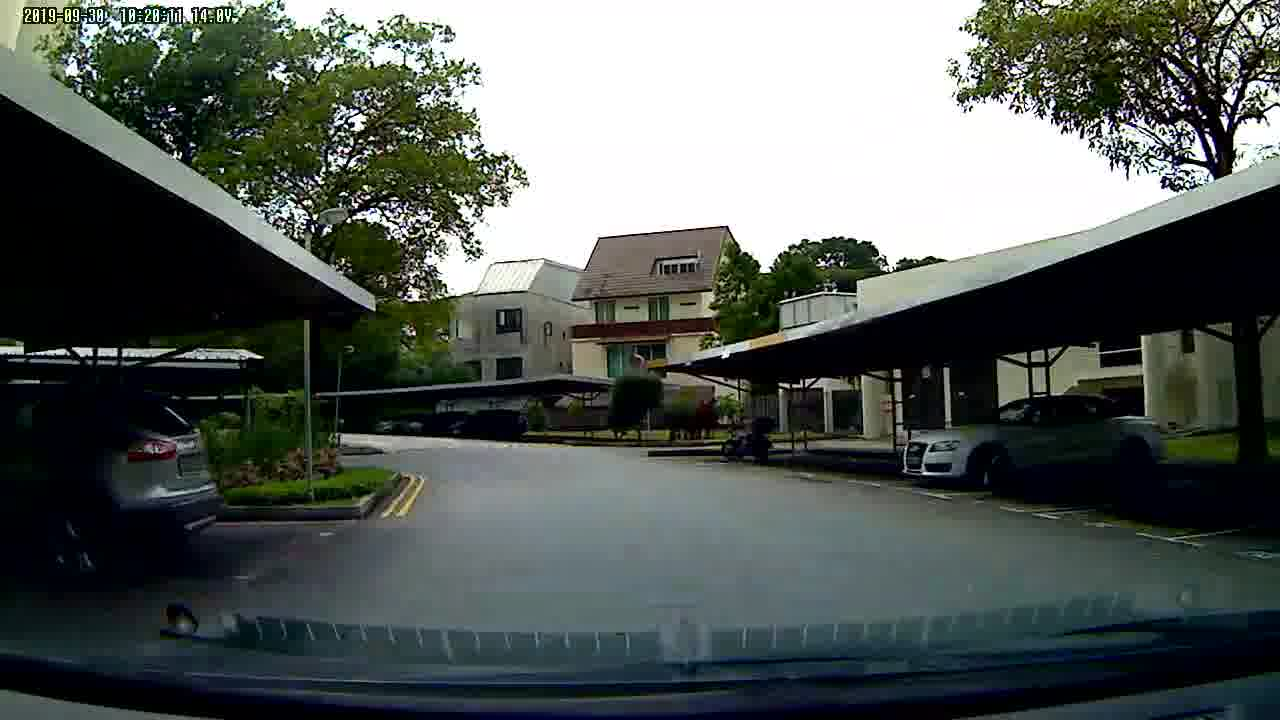car: (56, 360, 227, 586), (898, 385, 1181, 503)
